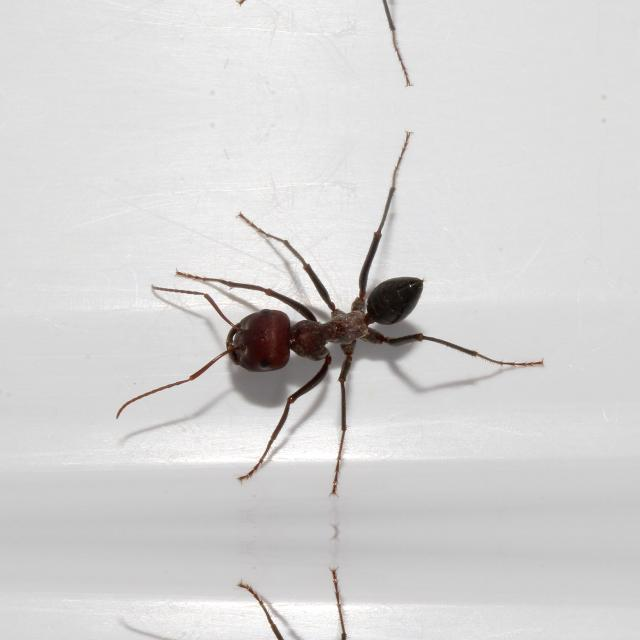Cataglyphis: (210, 262, 458, 398)
